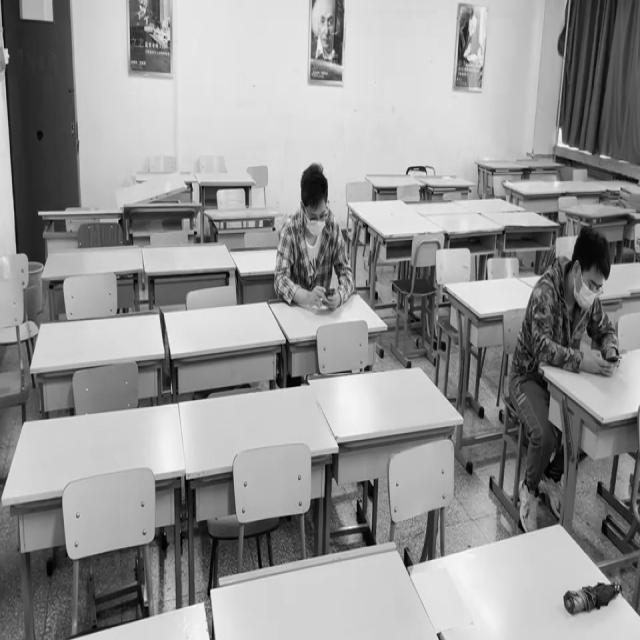phone: (542, 231, 623, 373), (274, 167, 353, 302)
